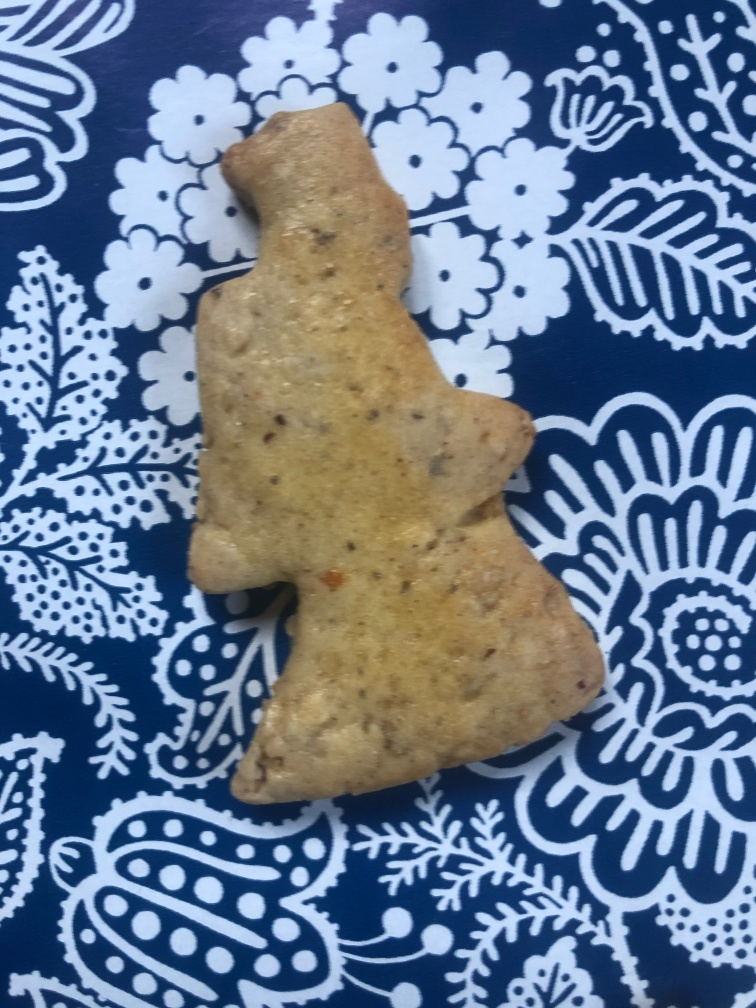king mage: (160, 102, 627, 814)
